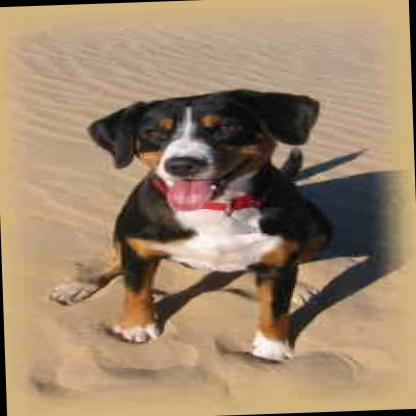EntleBucher: (36, 84, 343, 372)
